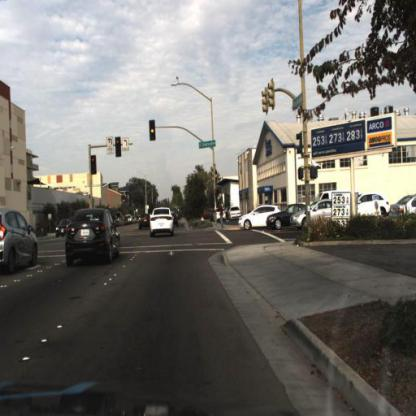car: (65, 206, 125, 270), (1, 207, 40, 277), (290, 200, 343, 233), (289, 199, 335, 235), (239, 205, 279, 232), (149, 204, 176, 242), (268, 203, 304, 231), (356, 192, 392, 219), (314, 188, 354, 205), (54, 214, 76, 236), (137, 210, 154, 235)
pedestrian: (218, 195, 228, 231)
trafficLight-RedLeft: (115, 136, 123, 162), (90, 155, 99, 178)
trafficLight-Yellow: (149, 120, 159, 144), (214, 169, 220, 186)
